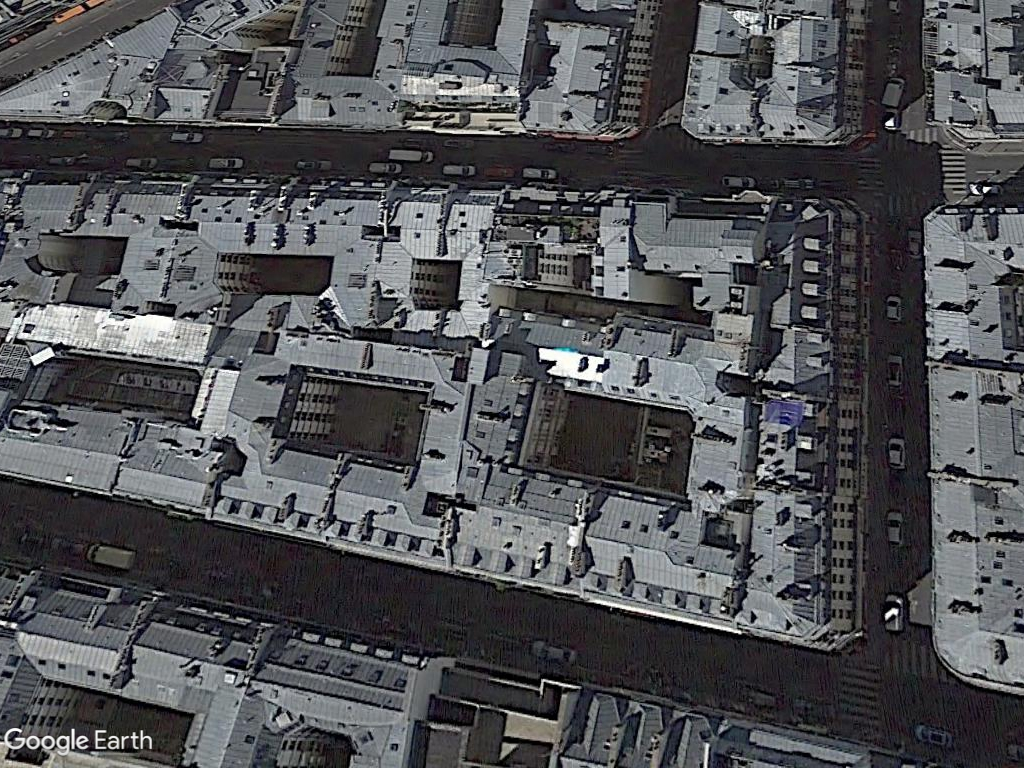car: (884, 509, 906, 549), (885, 354, 905, 392), (886, 435, 907, 471), (365, 158, 405, 175), (717, 173, 759, 189), (519, 166, 560, 182), (885, 292, 903, 325), (169, 129, 206, 145), (205, 156, 246, 170), (441, 163, 479, 176)
van: (84, 542, 135, 571), (881, 591, 906, 635), (386, 146, 438, 163)
